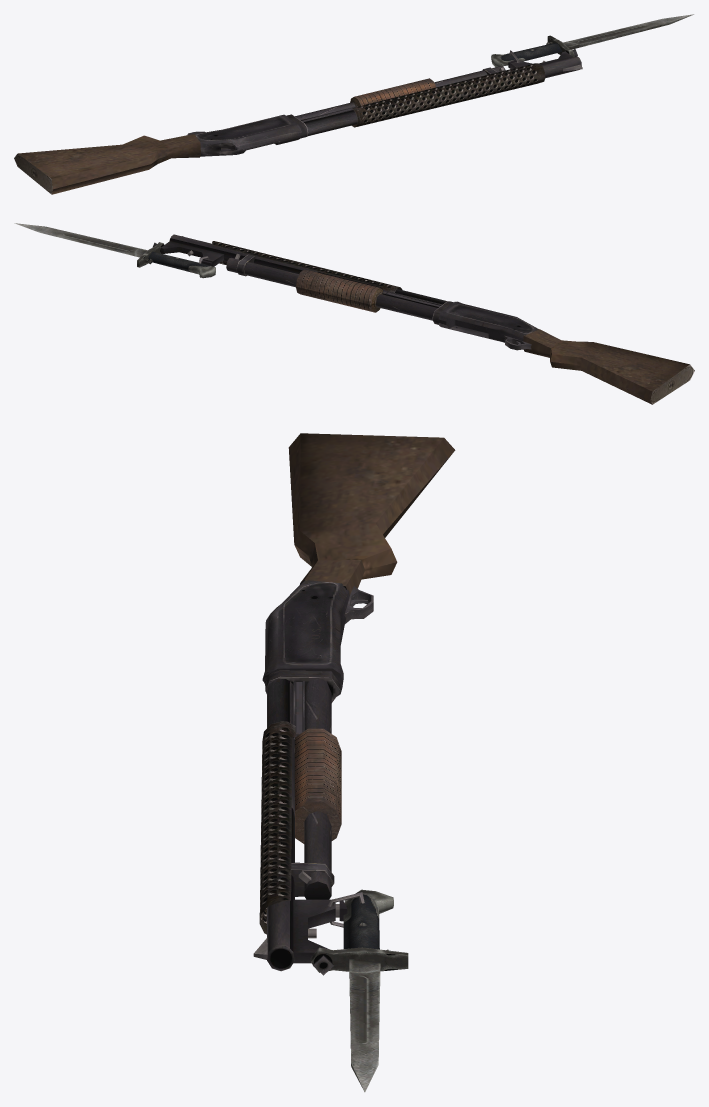
The model's file is weapon_usa_trenchgun_bayonet_LOD11.obj.
3 renders of one model, top to bottom at view 1: azimuth 30°, elevation 25°; view 2: azimuth 150°, elevation 25°; view 3: azimuth 270°, elevation 25°, orthographic. The views are drawn at different scales.
Visible parts, largest first — view 1: TomGroup_0, TomGroup_1, TomGroup_2; view 2: TomGroup_0, TomGroup_1, TomGroup_2; view 3: TomGroup_0, TomGroup_1, TomGroup_2.
Part boxes in pixels (bbox=[...]): TomGroup_0: bbox=[187, 49, 582, 156]; TomGroup_1: bbox=[14, 78, 435, 194]; TomGroup_2: bbox=[491, 14, 693, 67]; TomGroup_0: bbox=[152, 234, 538, 350]; TomGroup_1: bbox=[296, 269, 694, 404]; TomGroup_2: bbox=[14, 223, 215, 278]; TomGroup_0: bbox=[253, 580, 373, 975]; TomGroup_1: bbox=[288, 433, 455, 843]; TomGroup_2: bbox=[310, 889, 408, 1092].
Size of the model in its own units: 138 by 4.42 by 18.29.
Materials: 2 (2 with a texture image).
